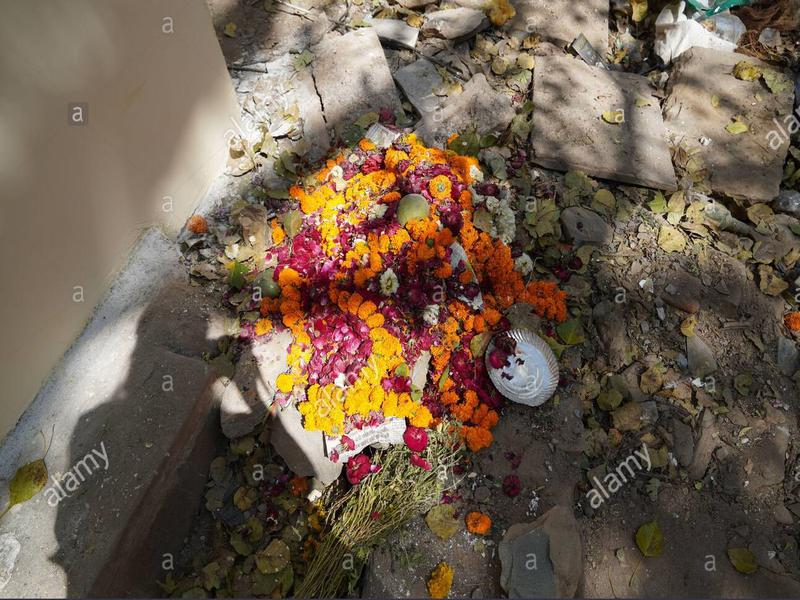flowers: (275, 132, 577, 485)
